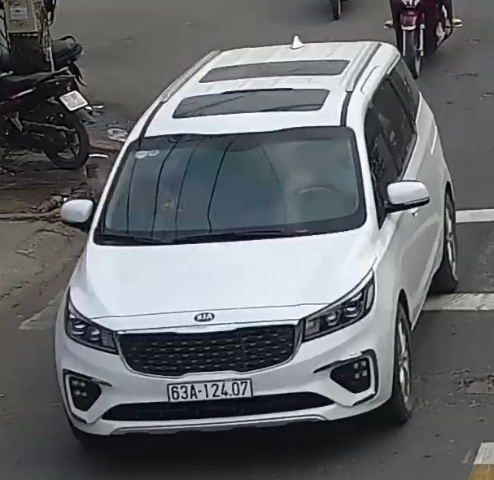vehicle plate: (164, 372, 259, 402)
